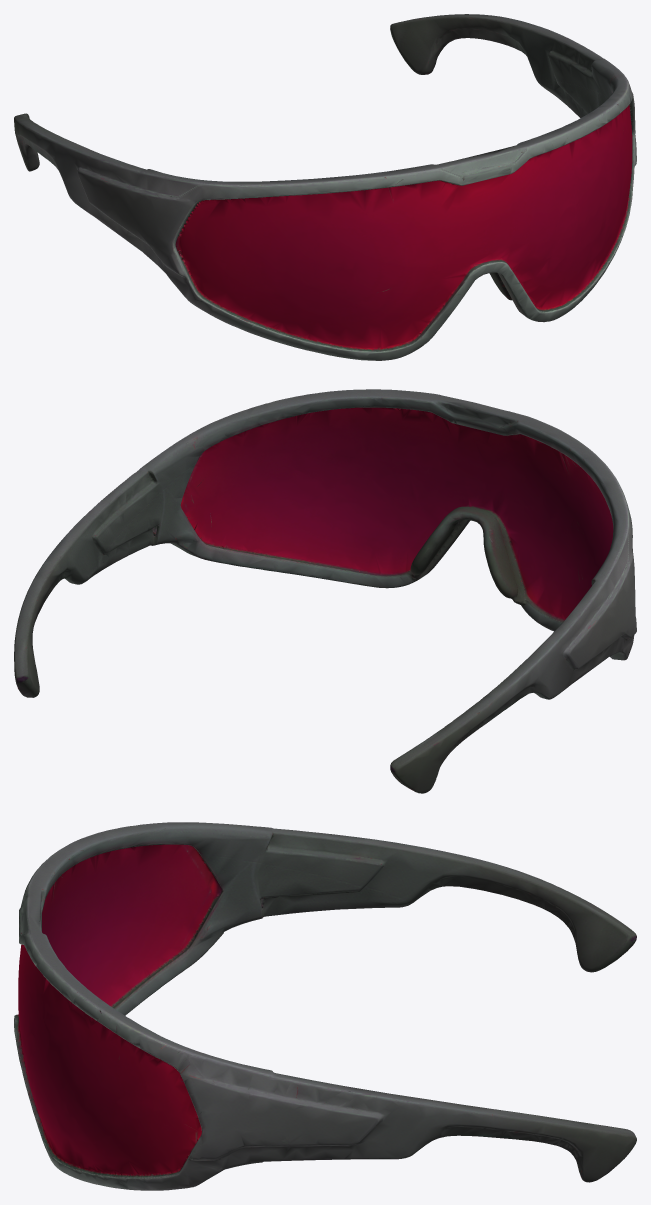
Rendered from cyclops-visor.glb.
The picture shows the model from 3 angles, top to bottom: view 1: azimuth 30°, elevation 25°; view 2: azimuth 150°, elevation 25°; view 3: azimuth 270°, elevation 25°; orthographic projection. The views are drawn at different scales.
Visible parts, largest first — view 1: Mesh_0; view 2: Mesh_0; view 3: Mesh_0.
Part boxes in pixels (x1,y1,x2,y2): Mesh_0: [14, 14, 636, 360]; Mesh_0: [14, 389, 636, 793]; Mesh_0: [14, 822, 636, 1190].
Size of the model in its own units: 1.9 by 0.7034 by 1.9.
Materials: 1 (1 with a texture image).
